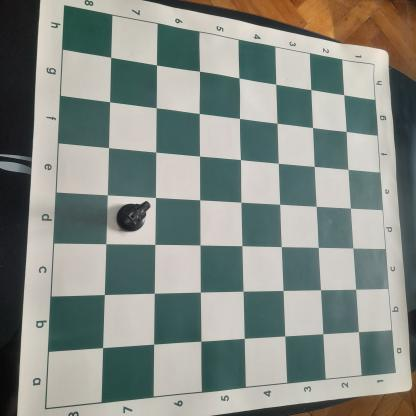black-knight: (116, 200, 151, 233)
